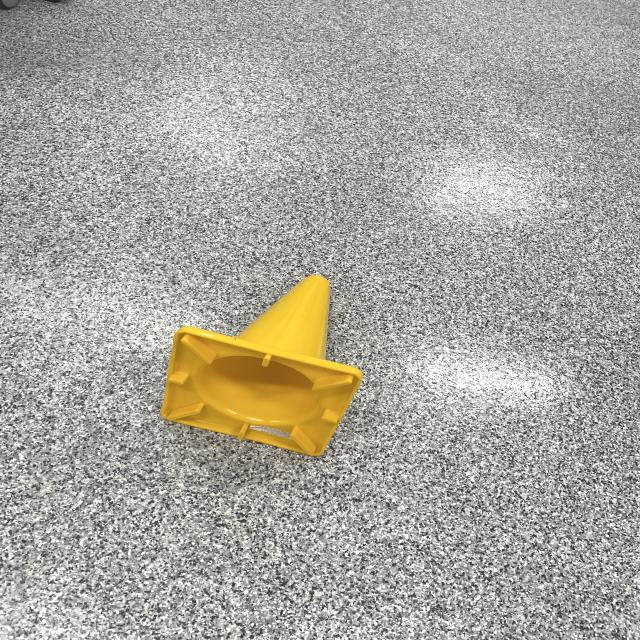frc_cone: (147, 272, 393, 459)
